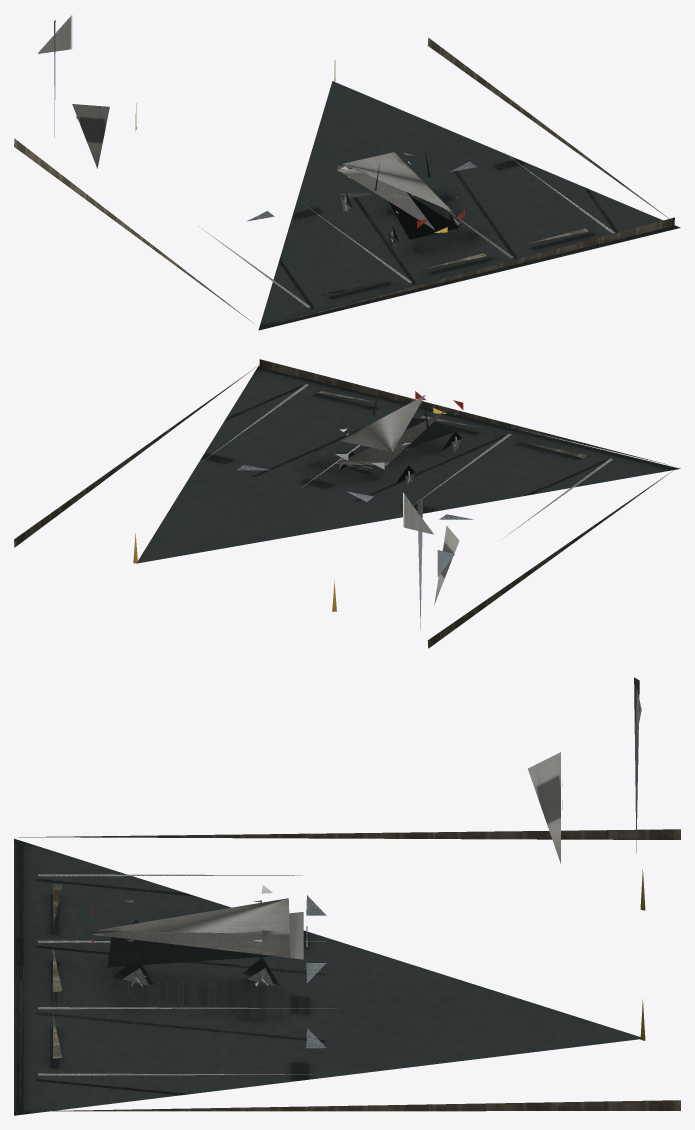
The model's file is parking_001.lod2.obj.
The picture shows the model from 3 angles, top to bottom: view 1: azimuth 30°, elevation 25°; view 2: azimuth 150°, elevation 25°; view 3: azimuth 270°, elevation 25°; orthographic projection. The views are drawn at different scales.
Parts seen in each view (by area): view 1: parking_001; view 2: parking_001; view 3: parking_001.
Boxes of the visible parts, box(x1,y1,x2,y2) form: parking_001: box(14, 15, 680, 330); parking_001: box(14, 359, 680, 648); parking_001: box(14, 677, 680, 1115).
Size of the model in its own units: 10.6 by 3.25 by 10.8.
Materials: 1 (1 with a texture image).
